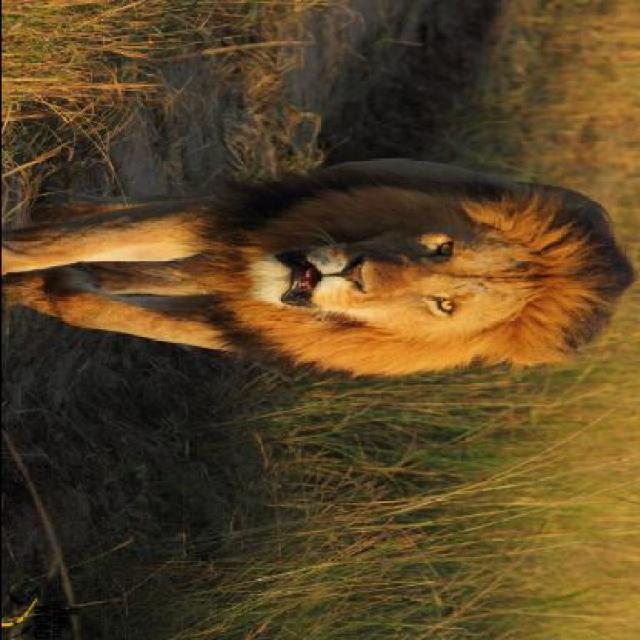Lion: (1, 152, 638, 408)
